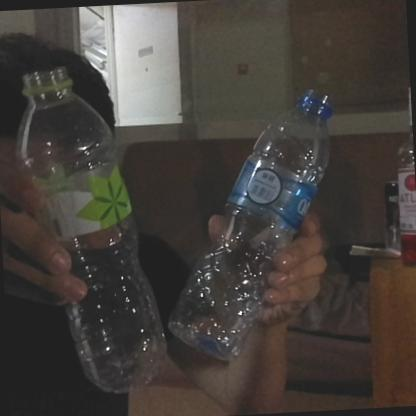plastic_bottles: (156, 85, 346, 363), (16, 62, 171, 396)
